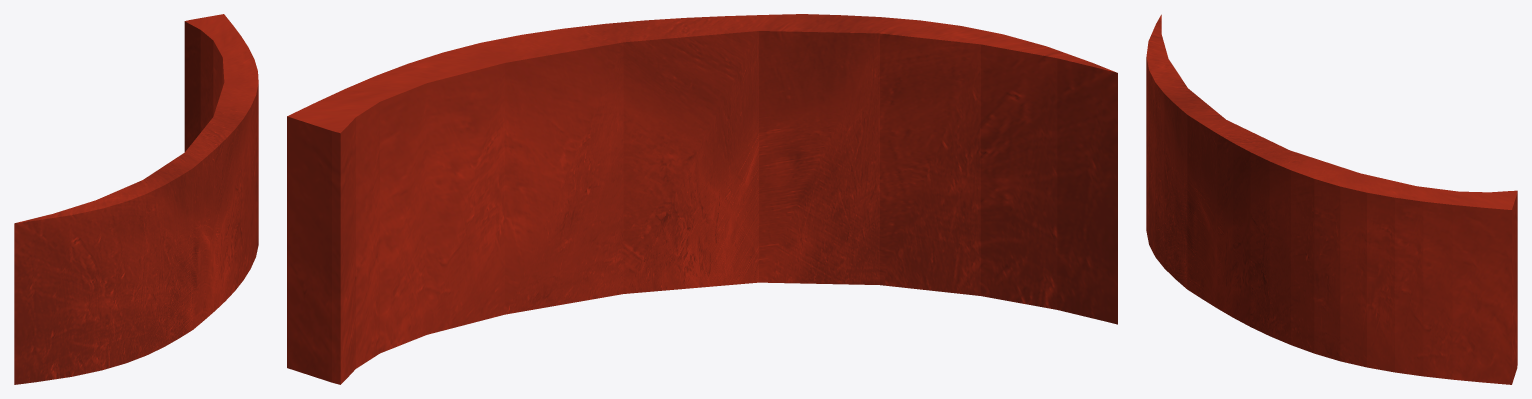
The model's file is orange5.FBX.
3 views of the same model, side by side, from view 1: azimuth 30°, elevation 25°; view 2: azimuth 150°, elevation 25°; view 3: azimuth 270°, elevation 25° (orthographic). The views are drawn at different scales.
Visible parts, largest first — view 1: Ligne018; view 2: Ligne018; view 3: Ligne018.
Boxes of the visible parts, <box> form: Ligne018: <box>14,14,258,384</box>; Ligne018: <box>287,14,1117,384</box>; Ligne018: <box>1146,14,1517,384</box>.
Bounding box in the file's own units: 22.56 × 9.37 × 18.03.
Materials: 1 (1 with a texture image).
